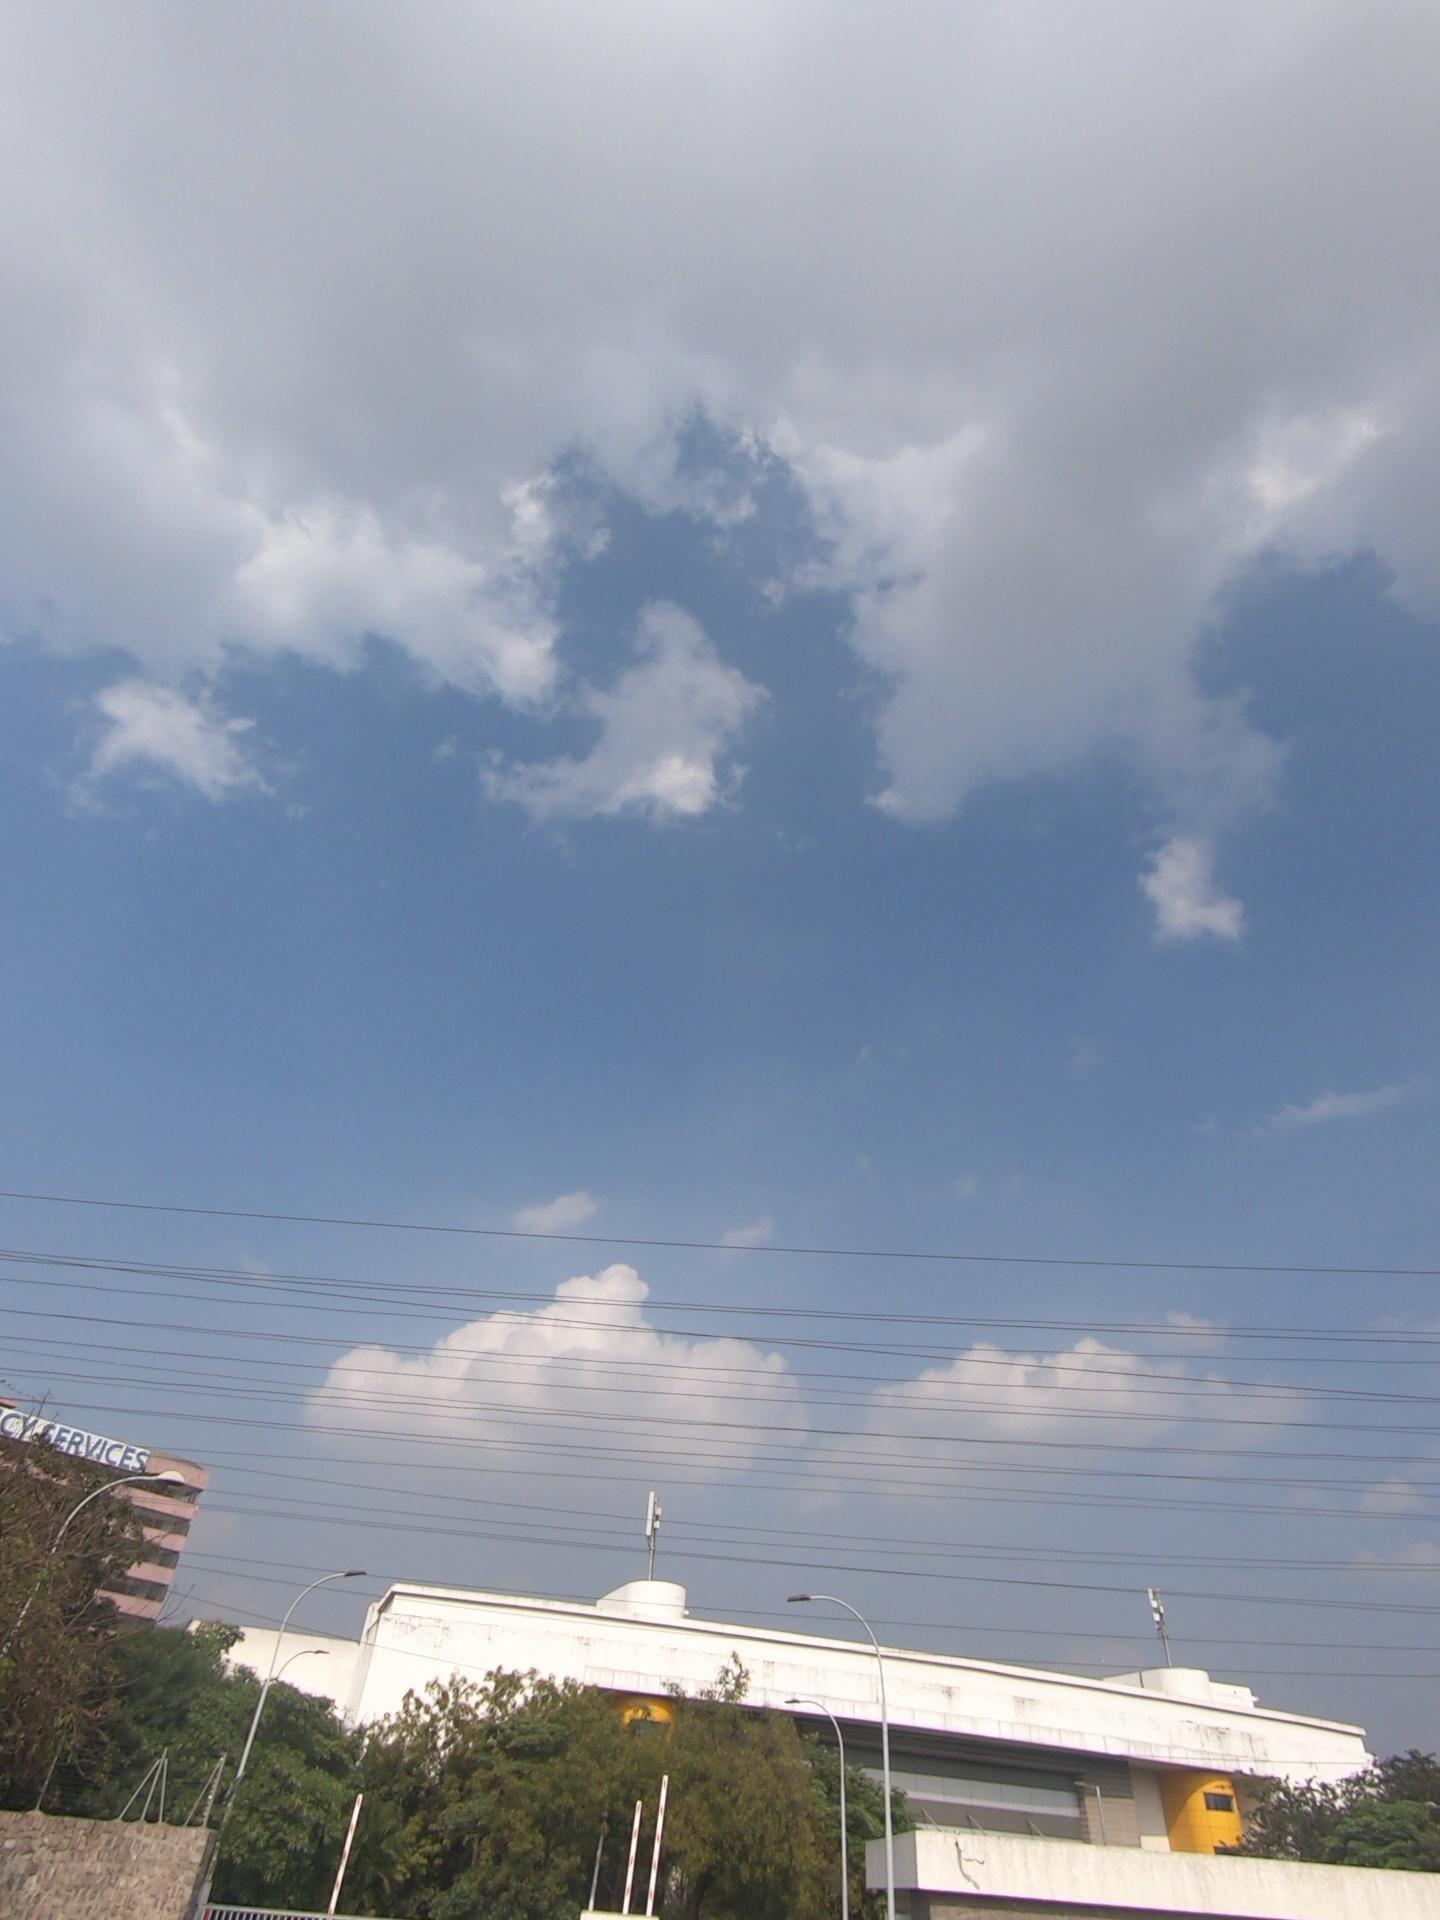off: (579, 1677, 771, 1920)
